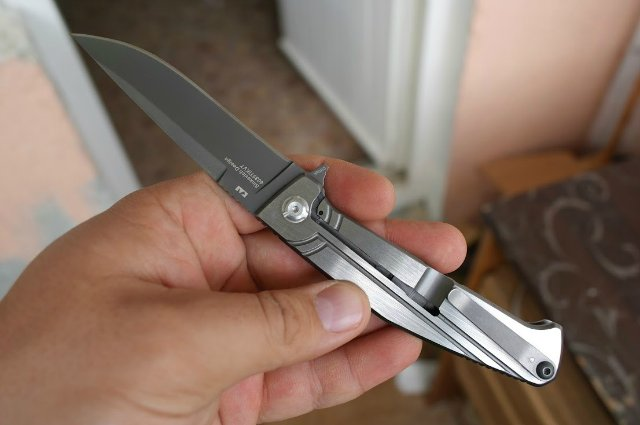knife: (50, 17, 365, 287)
